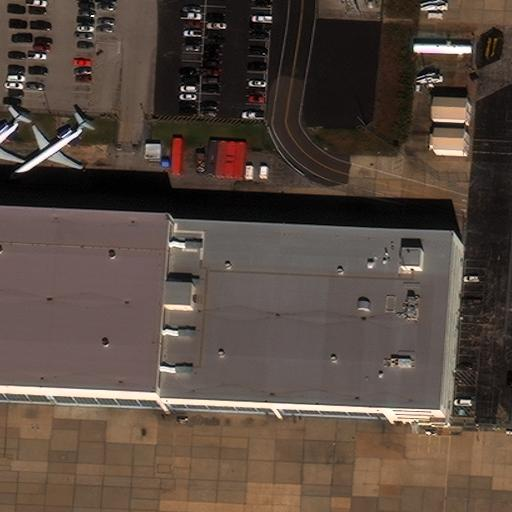Medium Civil Transport: (6, 120, 85, 179), (0, 115, 22, 168)
